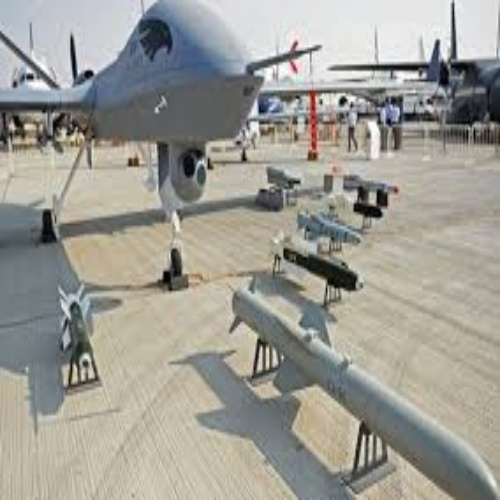uav640: (1, 2, 441, 282)
